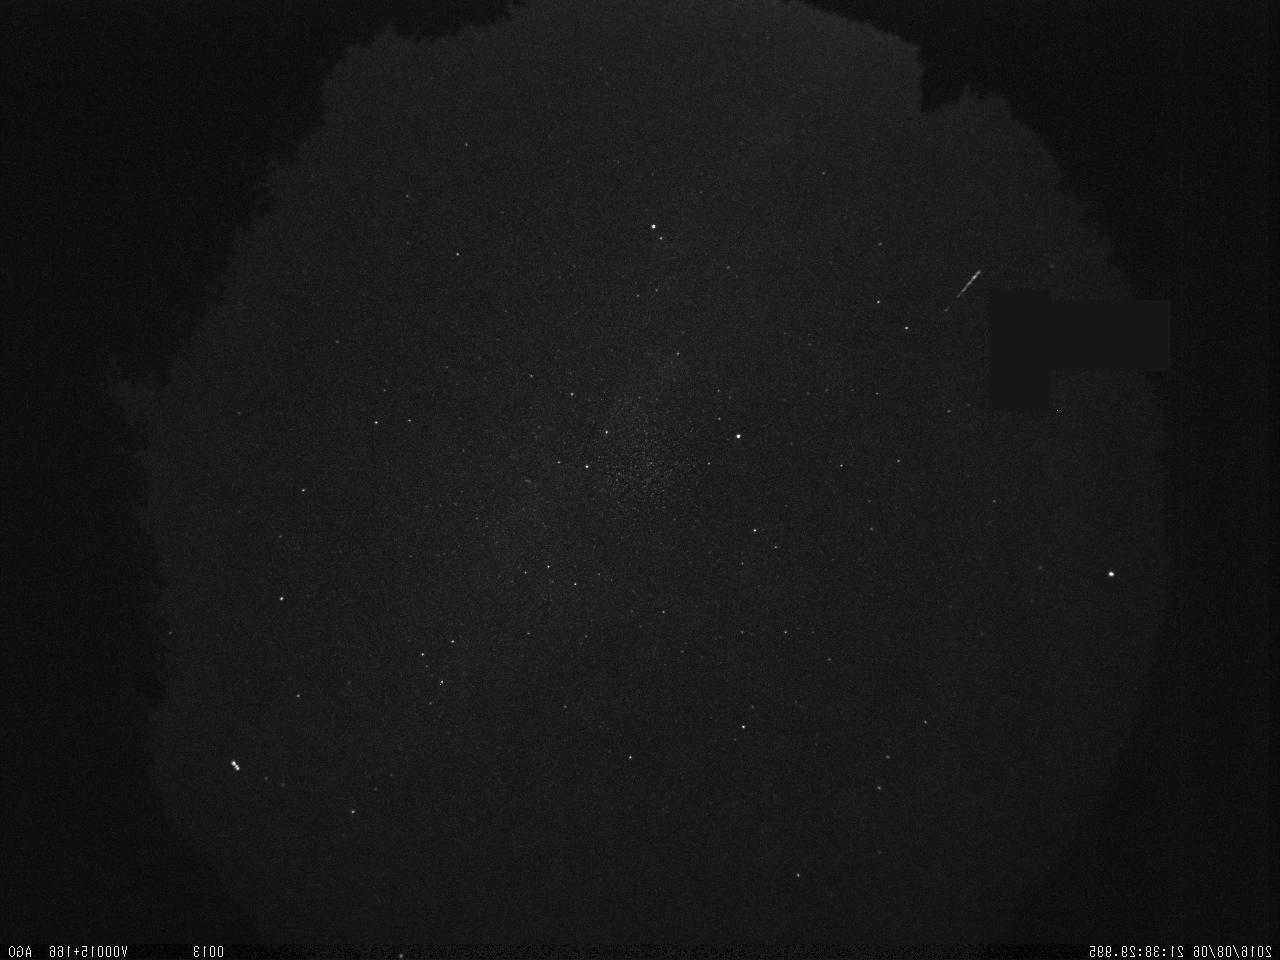meteor: (891, 239, 1029, 347)
